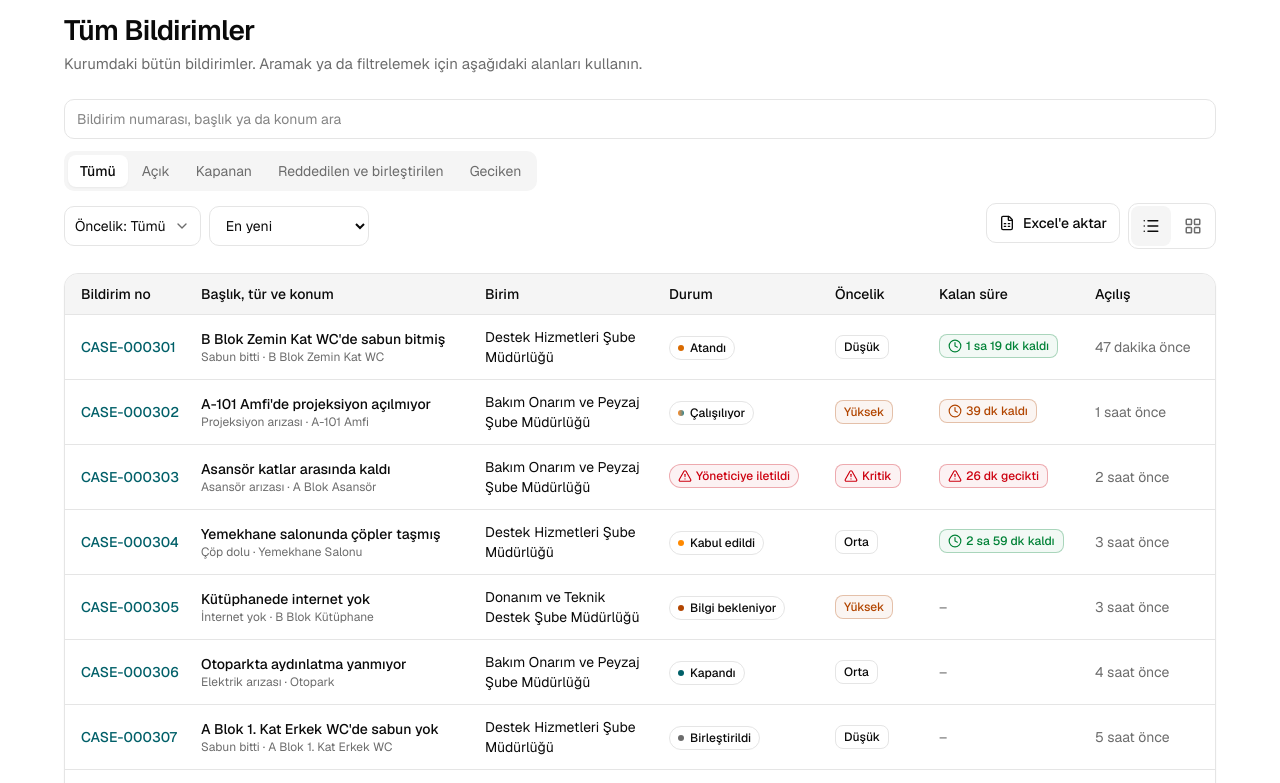
CaseList › explains an empty search result and clears the filters on request
In the search field named "Bildirim ara": (640, 119) 64,99 -> 1216,139, type "olmayan kelime"
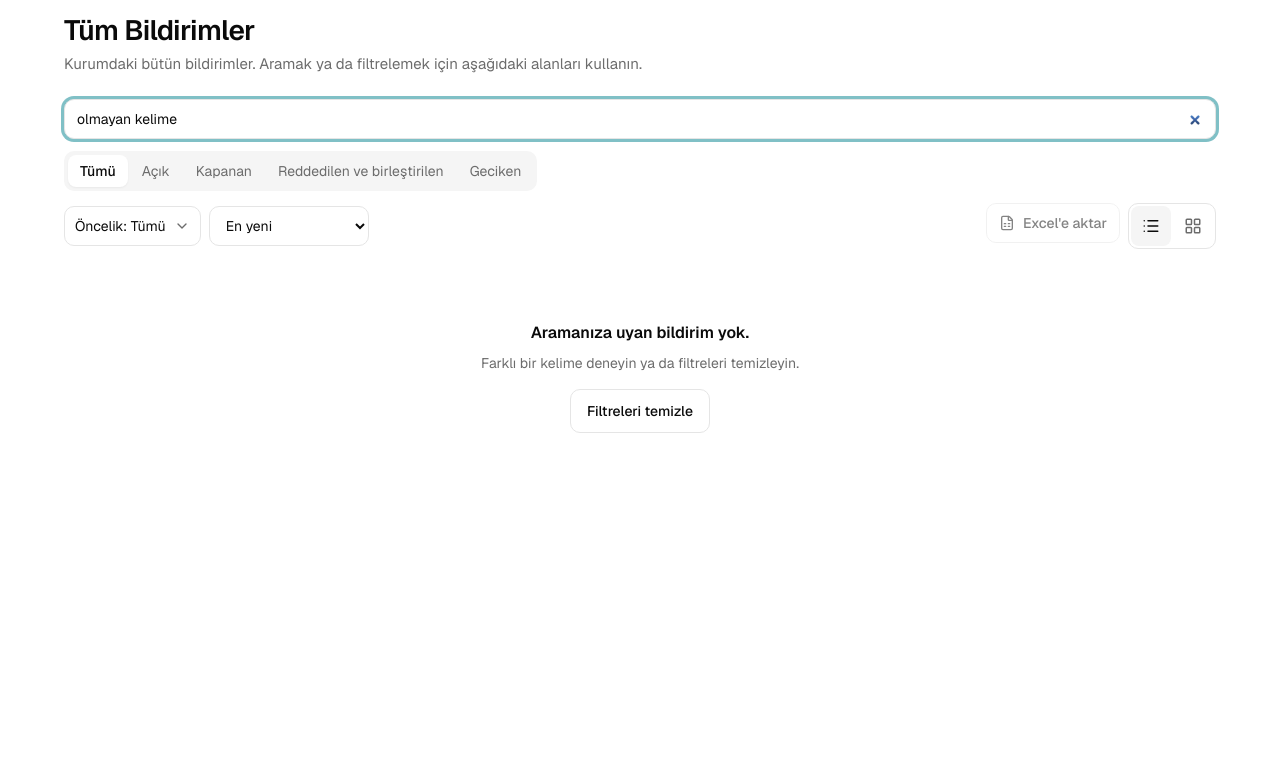
Result: the text "Aramanıza uyan bildirim yok." is shown at 531,321 -> 749,345
Click the button "Filtreleri temizle": (640, 411) 570,389 -> 710,433
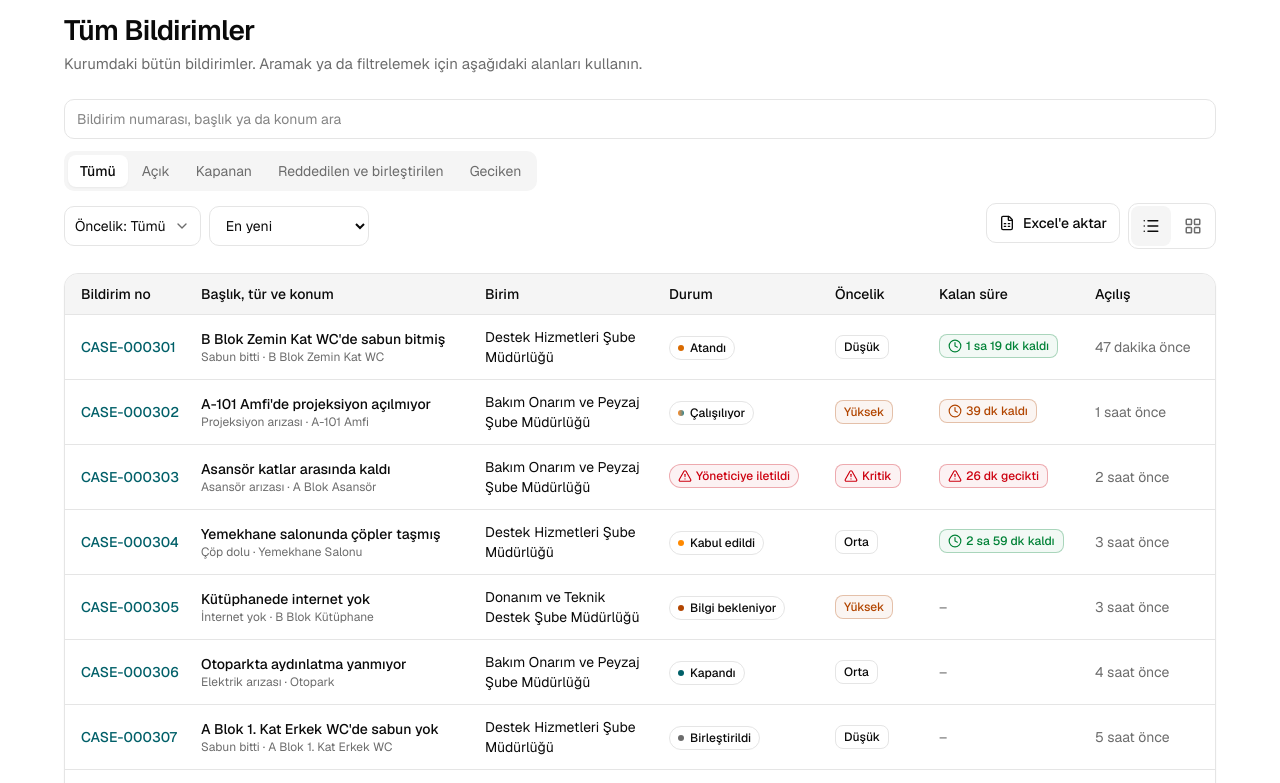
Result: the number of list items is 20
Result: the search field named "Bildirim ara" is empty at 64,99 -> 1216,139
